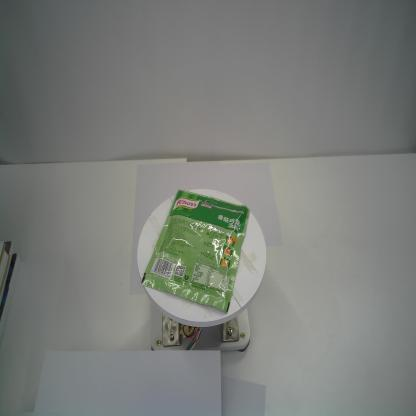Seasoner: (140, 188, 250, 313)
